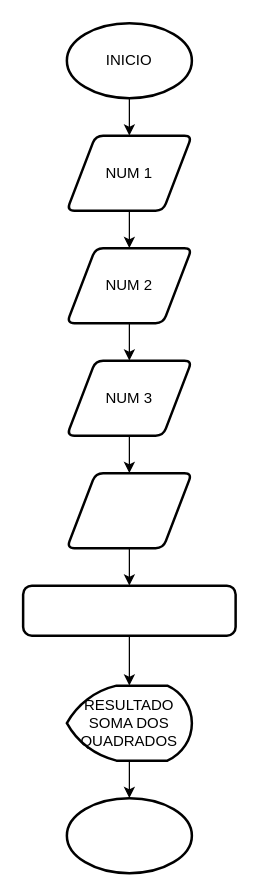
Image size: 258x895. Some labels were removed from this diagram. The centre of each missing label's shape, as x and y in pixels:
FIM: (x=128, y=835)
NUM 4: (x=128, y=510)
RES = (NUM1*2) + (NUM2*2) + (NUM3*2) + (NUM4*2): (x=128, y=610)
